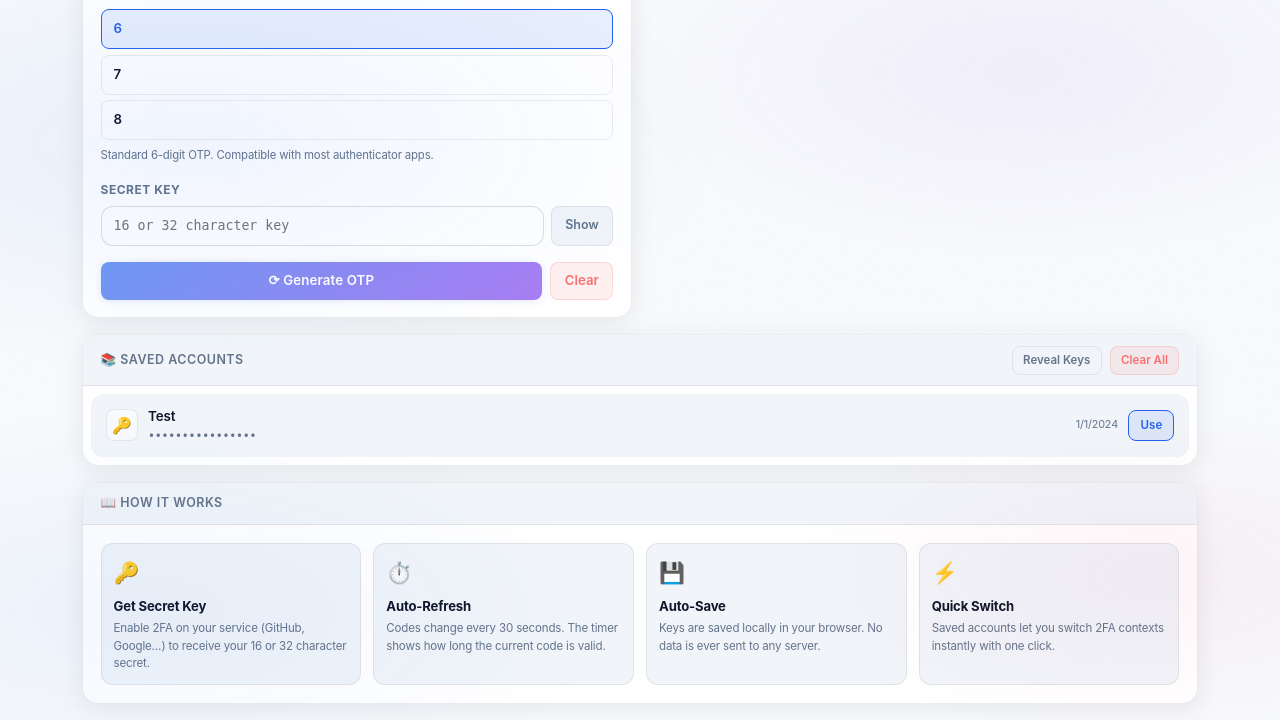
Scenario: OtpGenerator Component › clear all removes all saved accounts
(page scrolled)
Click the button "Clear All" at point(1145, 360), box x1=1110 y1=346 x2=1179 y2=375
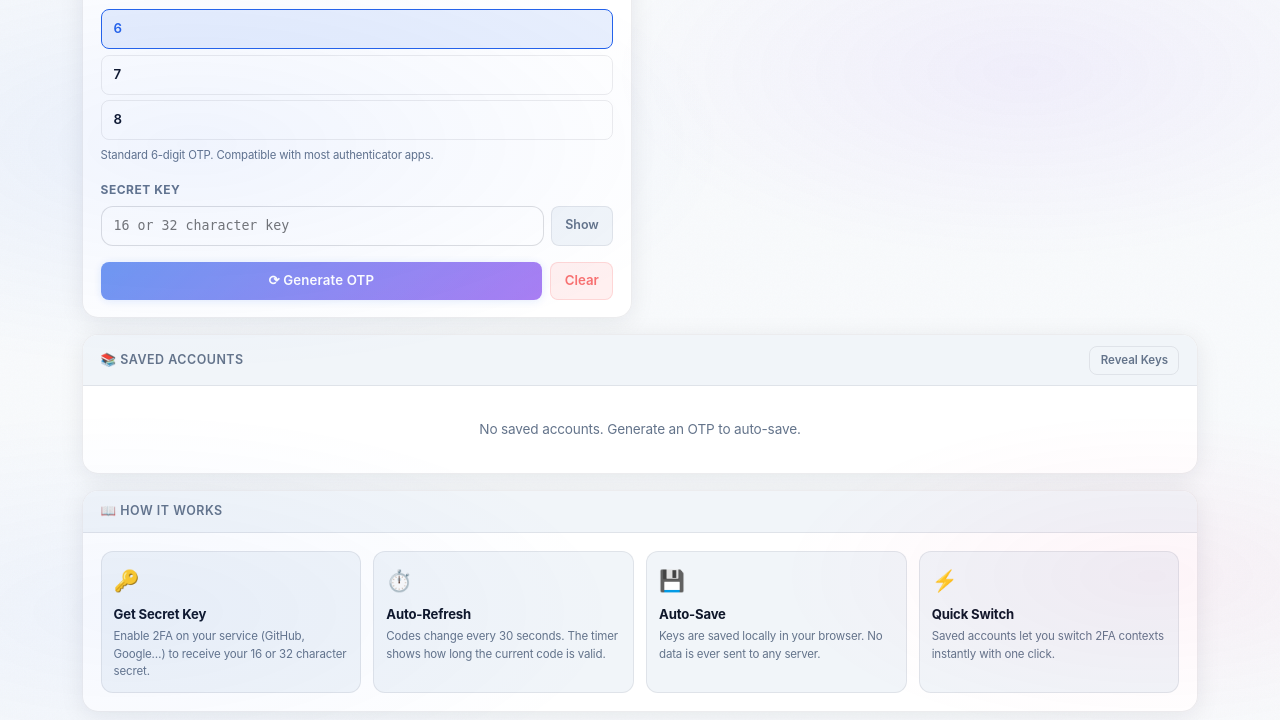
Result: the text "No saved accounts. Generate an OTP to auto-save." is shown at x1=479 y1=421 x2=801 y2=437
